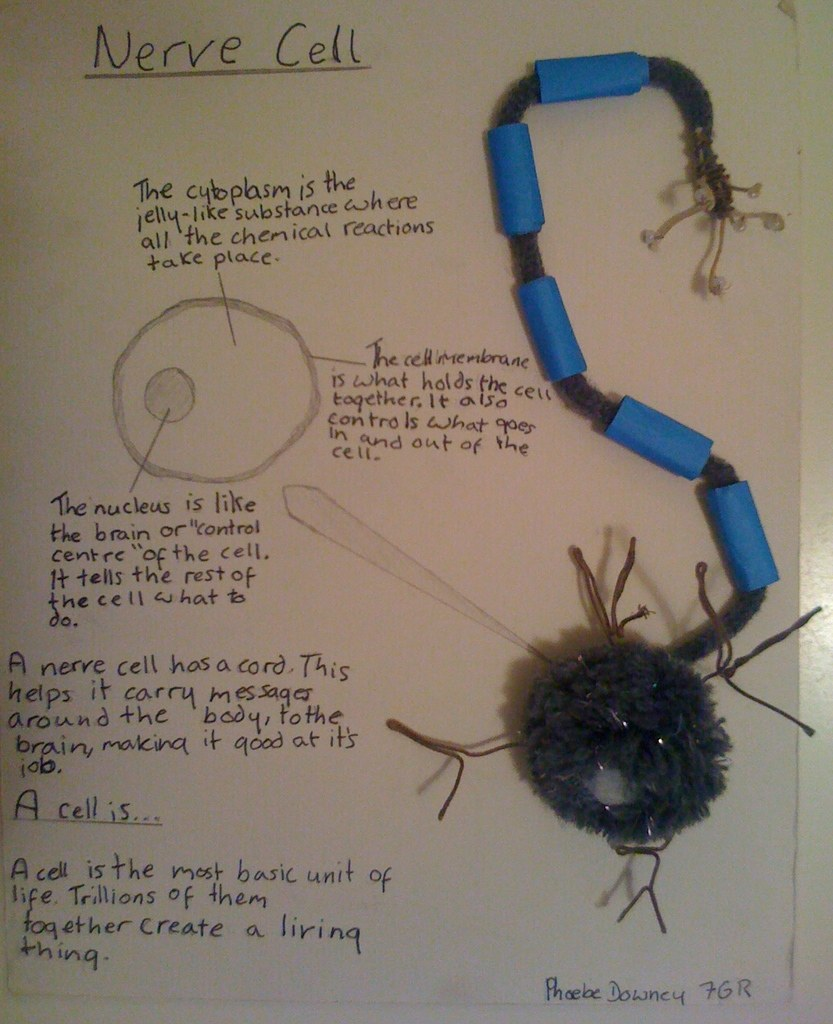insect: (380, 50, 826, 939)
